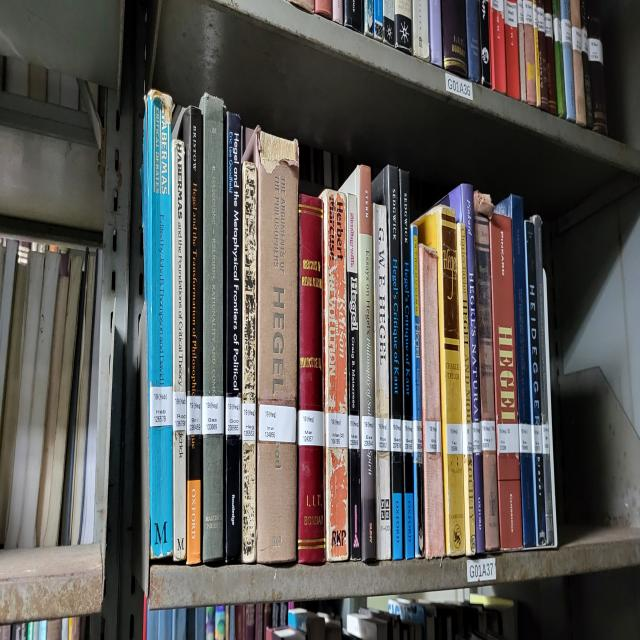Book: (245, 127, 299, 563), (418, 206, 466, 557), (442, 184, 485, 555), (495, 195, 536, 547), (340, 165, 376, 563), (144, 89, 172, 557), (371, 165, 404, 560), (200, 92, 225, 563), (490, 214, 522, 549), (321, 189, 349, 563), (180, 106, 202, 565), (298, 195, 325, 563), (474, 192, 500, 552), (419, 244, 445, 557), (225, 111, 242, 563), (241, 160, 258, 563), (372, 203, 391, 560), (525, 222, 546, 544), (171, 138, 186, 560), (456, 222, 475, 555), (399, 170, 415, 560), (346, 192, 361, 560), (410, 225, 424, 557)
Label: (259, 403, 296, 444), (298, 409, 324, 446), (202, 395, 224, 436), (150, 387, 172, 427), (326, 414, 348, 449), (498, 422, 519, 455), (186, 395, 202, 436), (225, 398, 241, 436), (172, 392, 186, 430), (242, 403, 256, 441), (425, 419, 441, 452), (446, 422, 462, 455), (375, 417, 390, 452), (481, 419, 496, 452), (361, 417, 375, 449), (519, 422, 531, 455), (349, 414, 360, 449), (390, 419, 401, 452), (412, 419, 422, 455), (402, 419, 412, 452), (462, 422, 472, 455), (472, 422, 482, 455), (531, 425, 542, 455)
